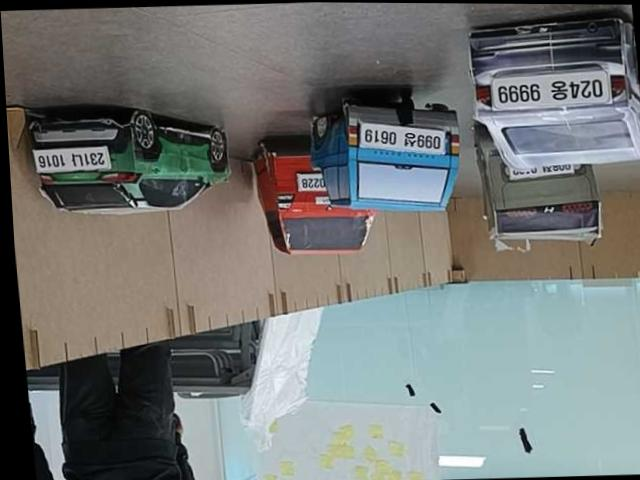car: (462, 17, 640, 171), (28, 105, 233, 219), (304, 98, 467, 218), (473, 132, 605, 252), (249, 138, 380, 258)
id: (492, 72, 613, 108), (357, 118, 448, 160), (33, 147, 111, 173), (507, 162, 574, 180), (296, 173, 328, 192)
